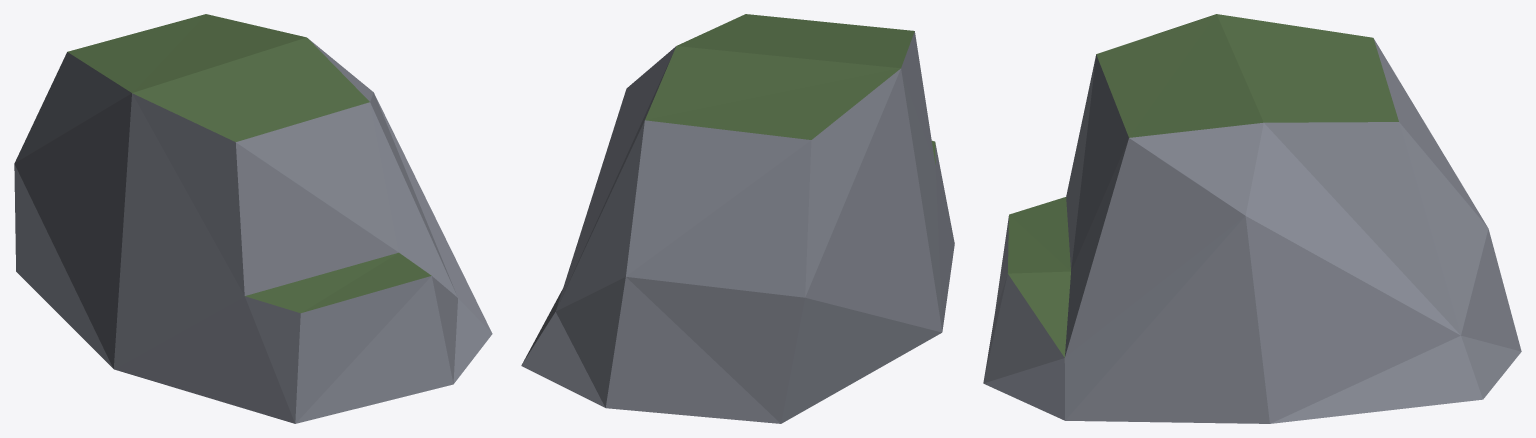
Rendered from Rock_Moss_5.lod1.glb.
3 renders of one model, left to right at view 1: azimuth 30°, elevation 25°; view 2: azimuth 150°, elevation 25°; view 3: azimuth 270°, elevation 25°, orthographic. The views are drawn at different scales.
Parts seen in each view (by area): view 1: Rock_Moss_5; view 2: Rock_Moss_5; view 3: Rock_Moss_5.
Boxes of the visible parts, x1,y1,x2,y2 form: Rock_Moss_5: (14, 14, 492, 423); Rock_Moss_5: (521, 14, 954, 423); Rock_Moss_5: (983, 14, 1521, 423).
Size of the model in its own units: 0.6587 by 0.571 by 0.9143.
